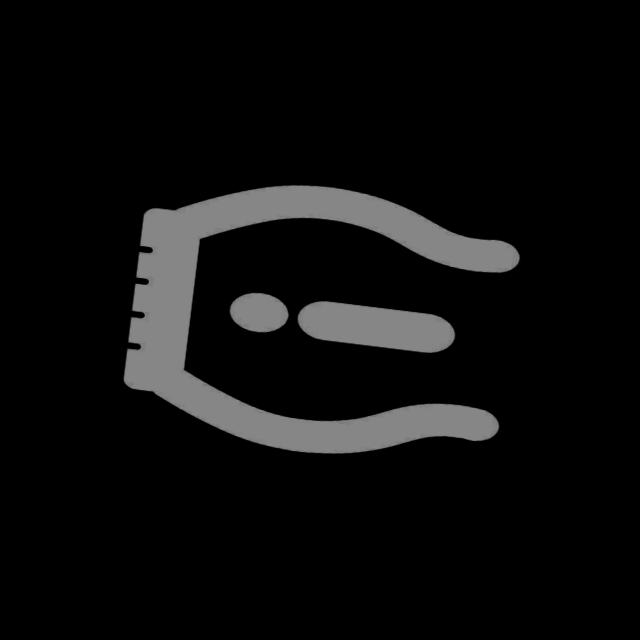kontrolka: (92, 146, 540, 495)
